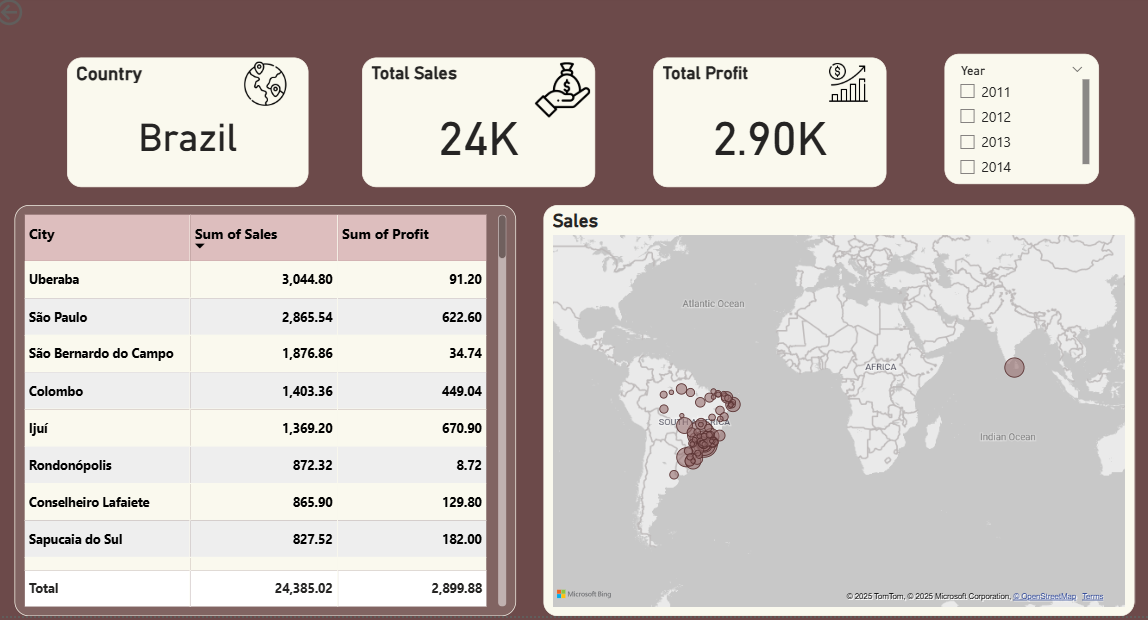

What the dashboard file says about the page in this screenshot:
{"tool":"powerbi","page":{"name":"Drill through ","canvas":[1352,720],"ordinal":2},"visuals":[{"type":"card","title":"Country","fields":{"Values":["Min(Orders.Country)"]},"box":[87,72.5,279.7,150.7],"z":0},{"type":"slicer","fields":{"Values":["Orders.Order Date.Variation.Date Hierarchy.Year"]},"box":[1104.4,68.1,179,151],"z":1000},{"type":"tableEx","fields":{"Values":["Orders.City","Sum(Orders.Sales)","Sum(Orders.Profit)"]},"box":[26.1,243.5,581.2,476.9],"z":2000},{"type":"map","title":"Sales ","fields":{"Category":["Orders.City"],"Size":["Sum(Orders.Sales)"]},"box":[639.2,243.5,685.6,476.9],"z":3000},{"type":"actionButton","box":[0,0,100,40],"z":4000},{"type":"card","title":"Total Sales","fields":{"Values":["measure.TotalSale"]},"box":[429.7,72.8,270,150],"z":5000},{"type":"card","title":"Total Profit","fields":{"Values":["measure.Totalprofit"]},"box":[767.1,72.3,270,150],"z":6000},{"type":"image","box":[959.5,72.5,66.7,58],"z":7000},{"type":"image","box":[624.7,72.5,73.9,75.4],"z":8000},{"type":"image","box":[284.1,72.5,65.2,60.9],"z":9000}]}

Visuals, with their boxes in screenshot pixels (x1, y1, x2, y2), scaled from the page's 1352x720 canvas onto the 1148x620 screenshot:
"Country" card: {"left": 74, "top": 62, "right": 311, "bottom": 192}
slicer - Orders.Order Date.Variation.Date Hierarchy.Year: {"left": 938, "top": 59, "right": 1090, "bottom": 189}
tableEx - Orders.City x Sum(Orders.Sales): {"left": 22, "top": 210, "right": 516, "bottom": 619}
"Sales " map: {"left": 543, "top": 210, "right": 1125, "bottom": 619}
actionButton: {"left": 0, "top": 0, "right": 85, "bottom": 34}
"Total Sales" card: {"left": 365, "top": 63, "right": 594, "bottom": 192}
"Total Profit" card: {"left": 651, "top": 62, "right": 881, "bottom": 191}
image: {"left": 815, "top": 62, "right": 871, "bottom": 112}
image: {"left": 530, "top": 62, "right": 593, "bottom": 127}
image: {"left": 241, "top": 62, "right": 297, "bottom": 115}
